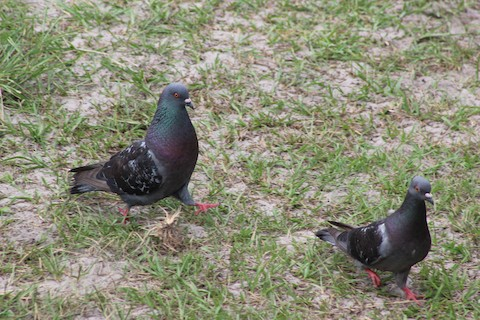pigeon: (68, 76, 225, 228), (308, 172, 443, 310)
